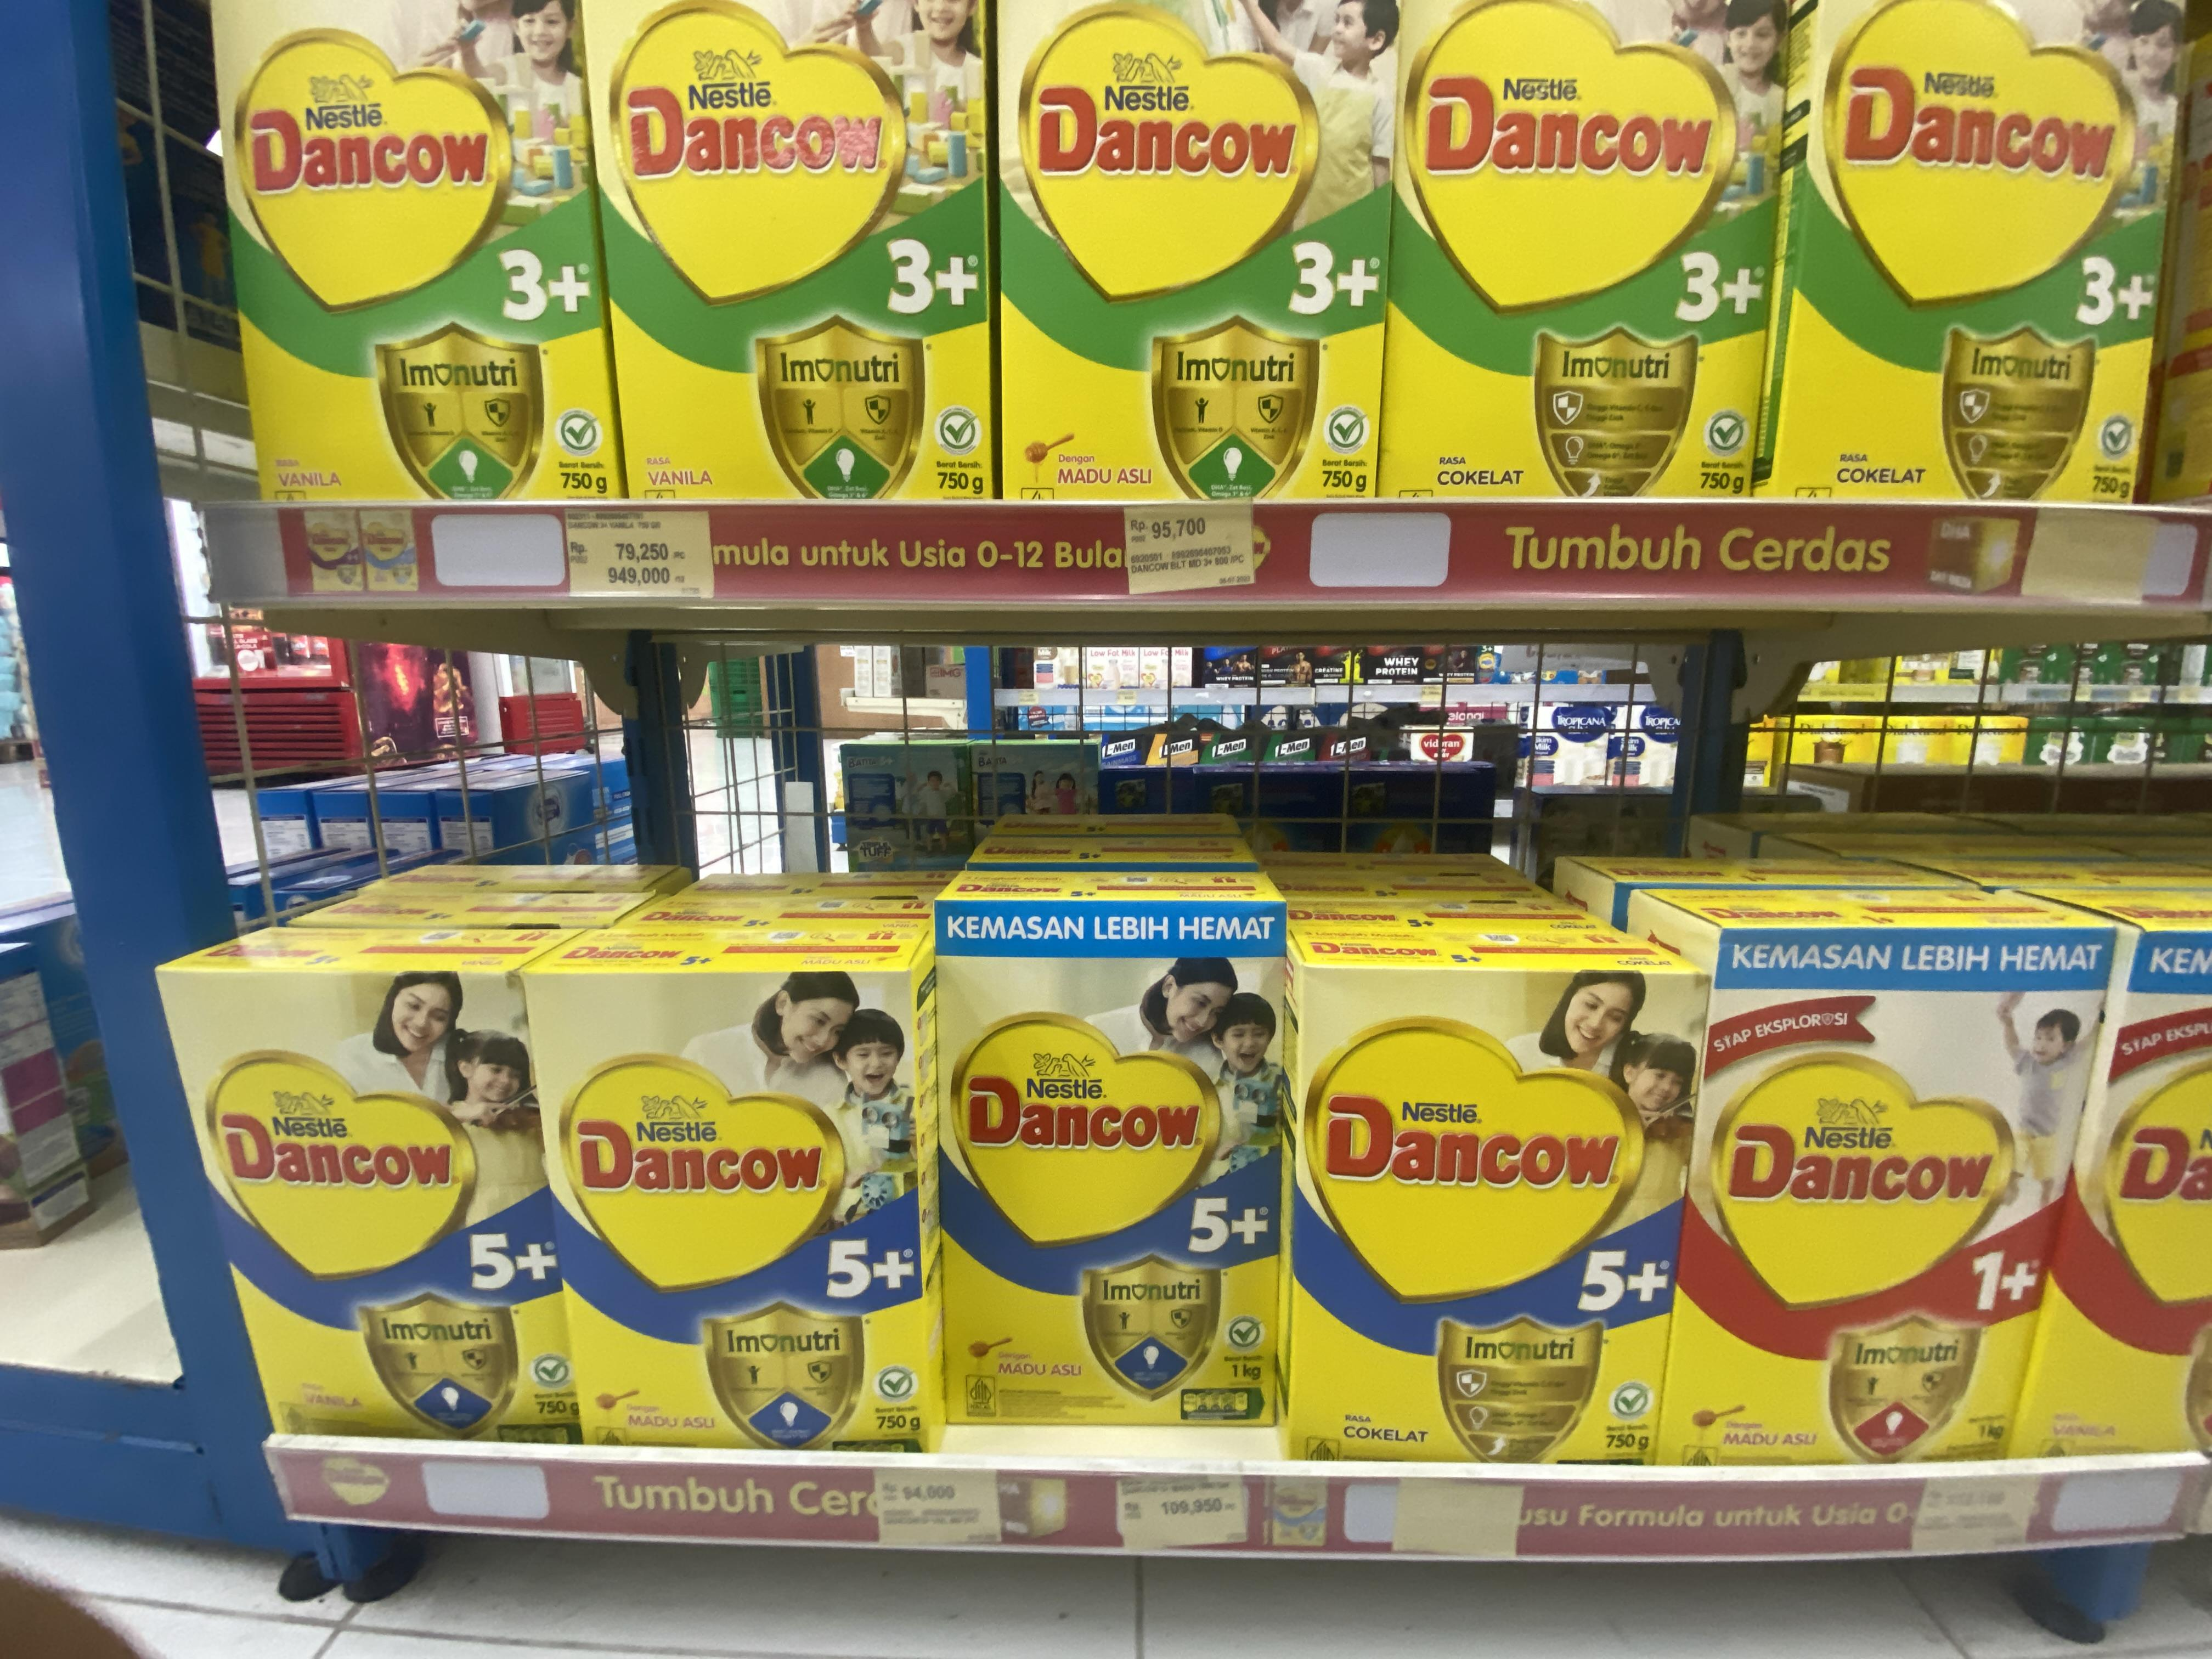DANCOW 1+ Madu Advn ExcNutr 12x1000g N1 ID_REDESIGN3: (1655, 985, 2101, 1471)
DANCOW 3+ Madu Advn ExcNutr 12x800g ID_REDESIGN3: (993, 0, 1409, 502)
DANCOW 3+ Van Advn ExcNutr 12x800g ID_REDESIGN3: (209, 0, 624, 519), (583, 0, 993, 507)
DANCOW 5+ Madu Advn ExcNutr 12x1000g ID_REDESIGN3: (946, 955, 1287, 1429)
DANCOW 5+ Madu Advn ExcNutr 12x800g ID_REDESIGN3: (529, 971, 921, 1466)
